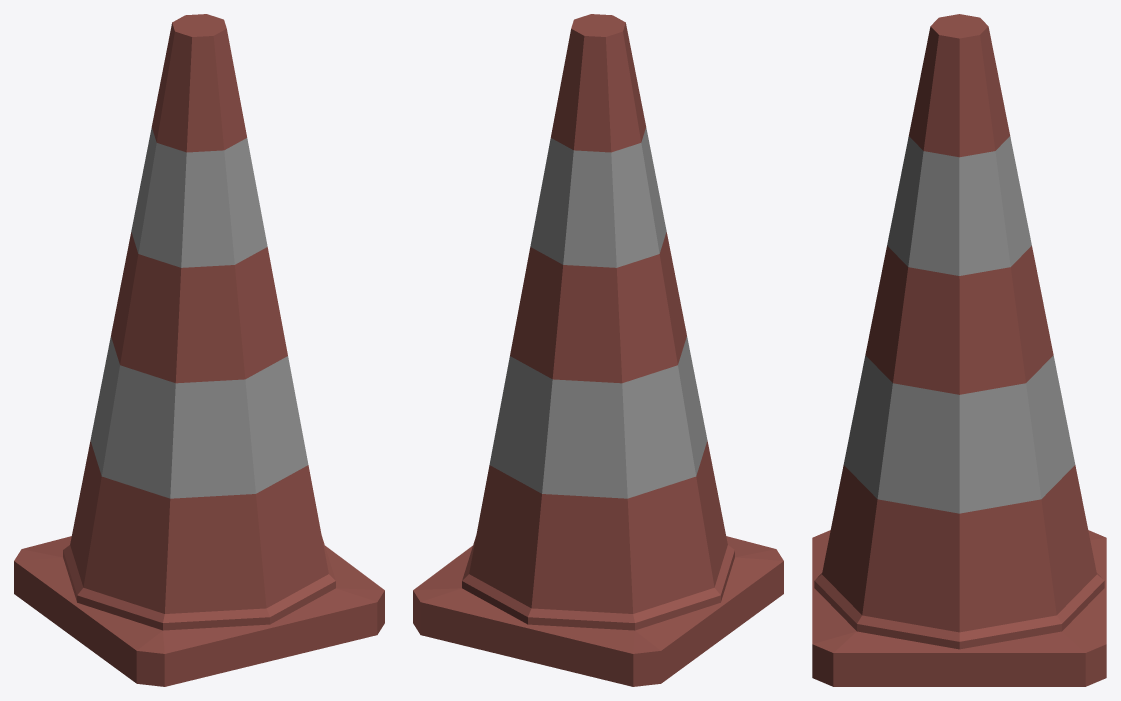
Rendered from Bollard.fbx.
3 renders of one model, left to right at view 1: azimuth 30°, elevation 25°; view 2: azimuth 150°, elevation 25°; view 3: azimuth 270°, elevation 25°, orthographic. The views are drawn at different scales.
Parts seen in each view (by area): view 1: Cube.003; view 2: Cube.003; view 3: Cube.003.
Part boxes in pixels (x1=…): Cube.003: x1=14, y1=14, x2=384, y2=686; Cube.003: x1=413, y1=14, x2=783, y2=686; Cube.003: x1=812, y1=14, x2=1106, y2=686.
Bounding box in the file's own units: 21.61 × 48.75 × 21.61.
